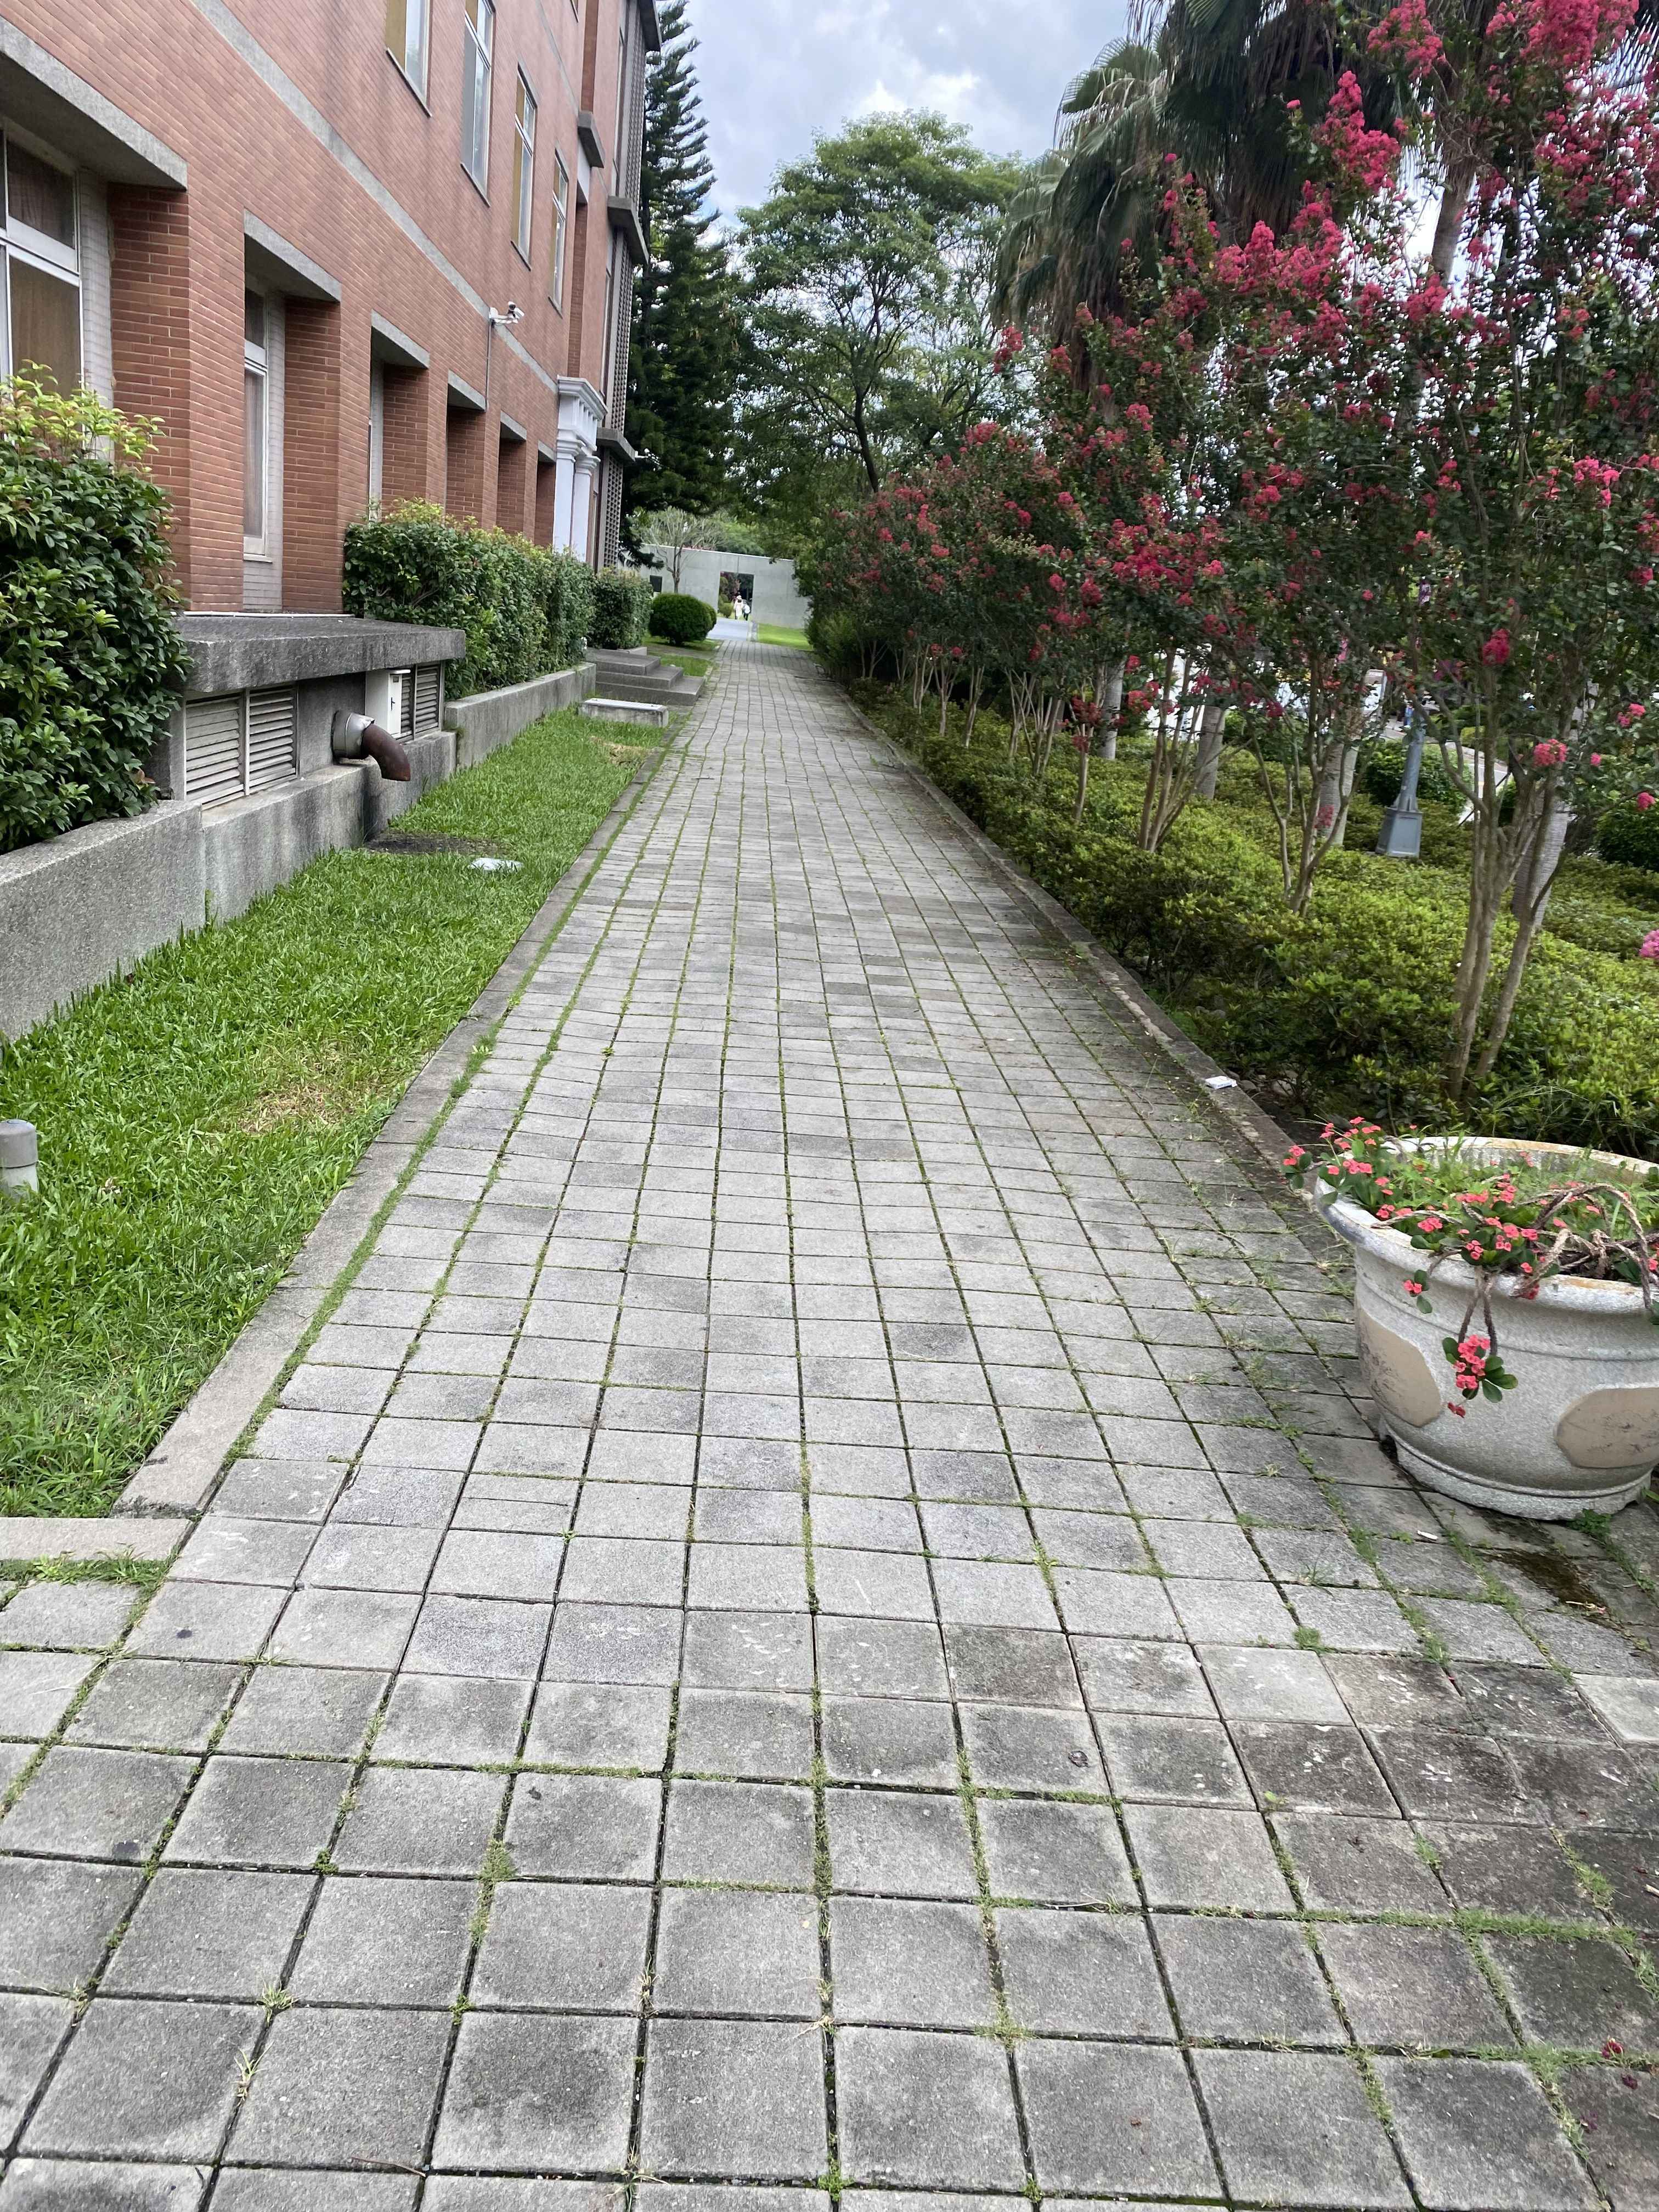0: (0, 1050, 741, 2205)
sidewalk: (518, 583, 1659, 2212)
